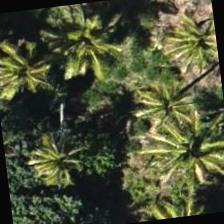Kelapa_Sawit: (121, 57, 221, 157), (40, 2, 140, 102), (4, 108, 104, 208), (145, 112, 223, 213), (0, 18, 67, 116), (153, 0, 222, 94)
